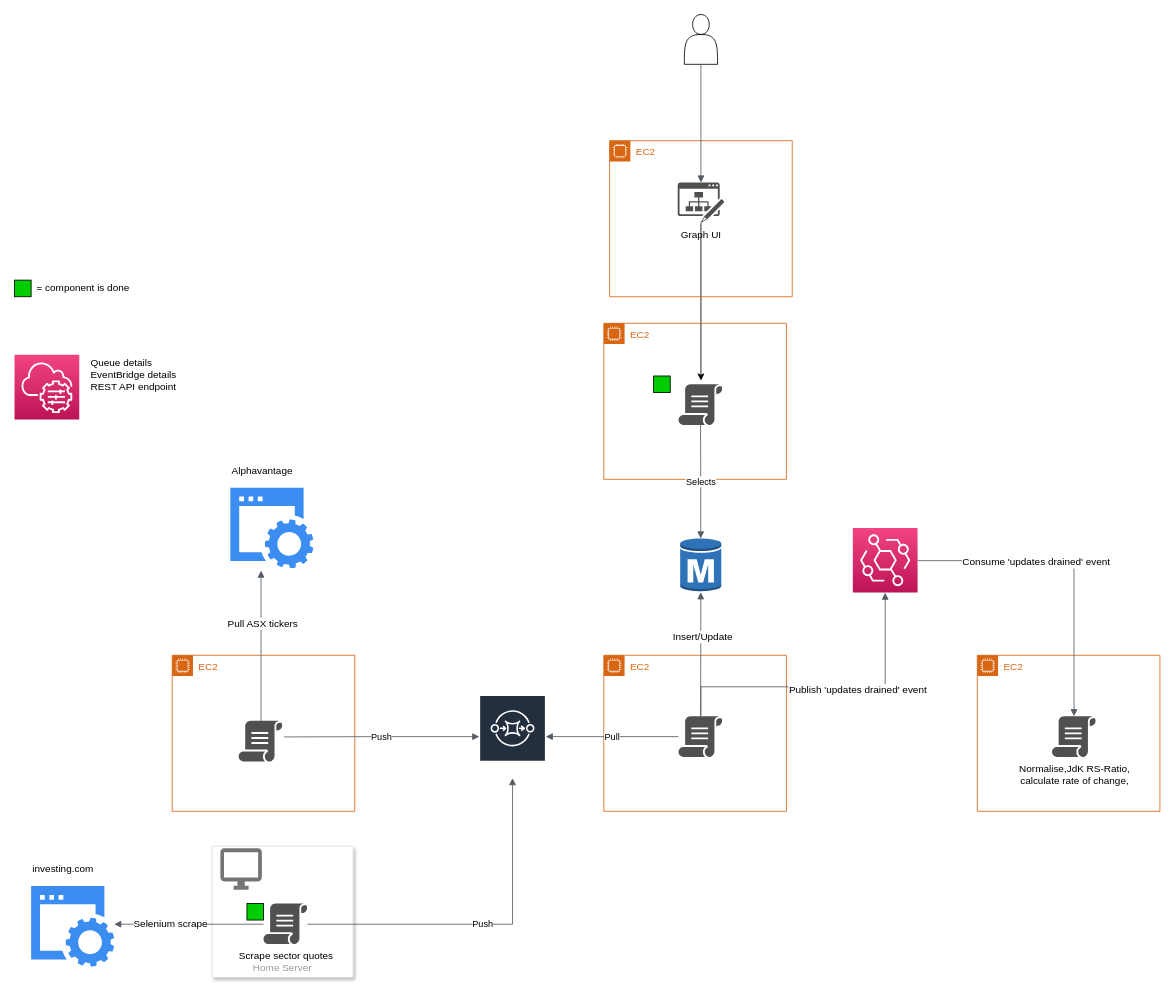
This 1174x998 diagram has some shape labels left out. Each missing label, with the centre of its shape:
"Amazon SQS" belongs at (512,736).
"Insert/update quotes in RDS" belongs at (700,736).
"Pull quotes, publish to queue" belongs at (260,740).
"REST API" belongs at (700,404).
